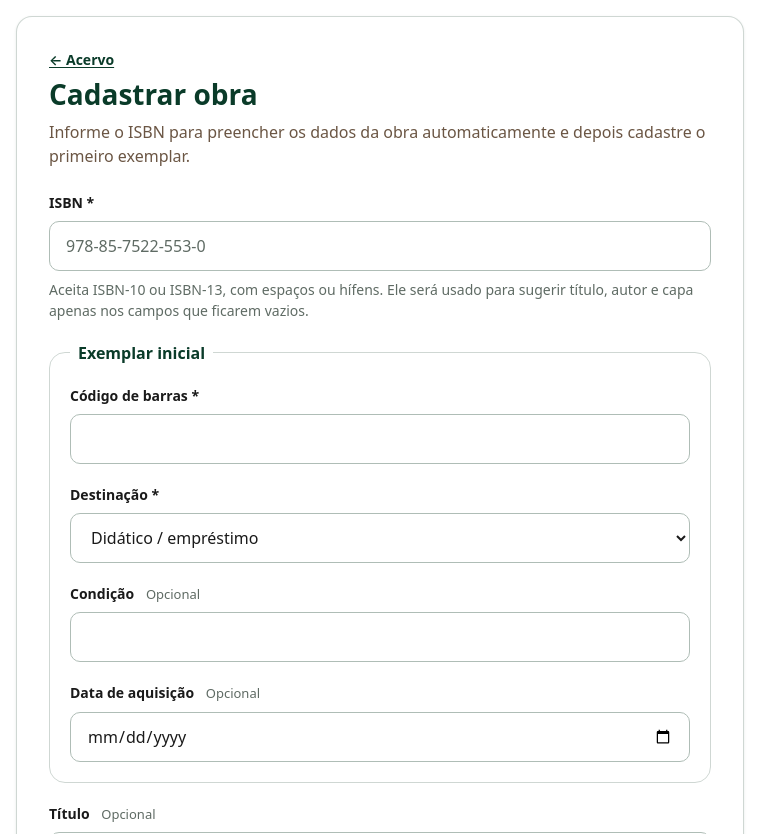
Test: BookCreateComponent › libera o preenchimento manual quando a consulta falha
In the field with id "book-isbn": (380, 246) [50, 222, 710, 270], type "9788575225530"
Wait 451 ms
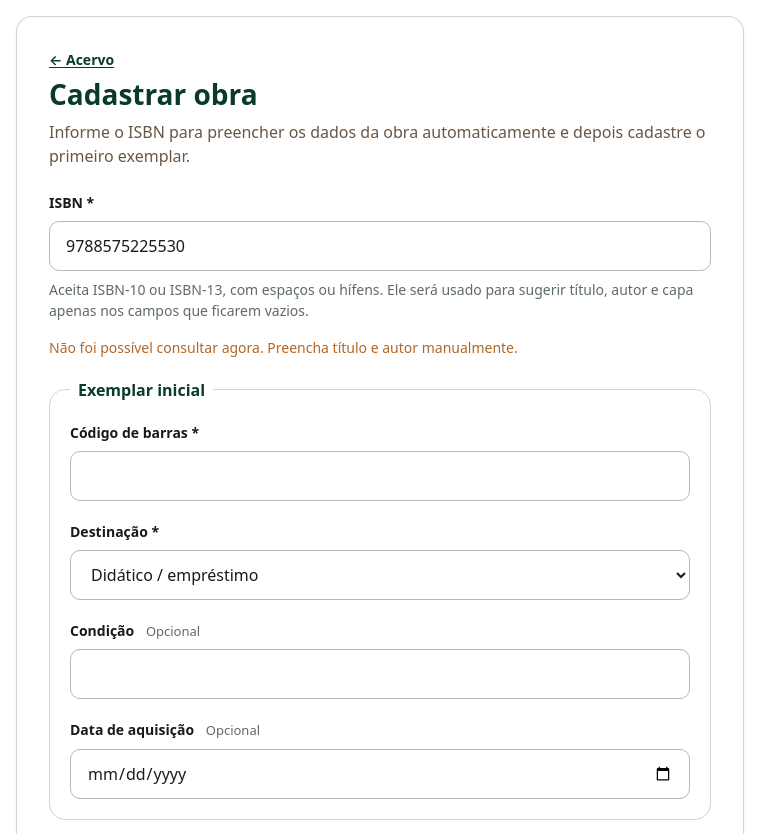
Expected: the text "Preencha título e autor manualmente" is shown, [49, 338, 518, 357]
